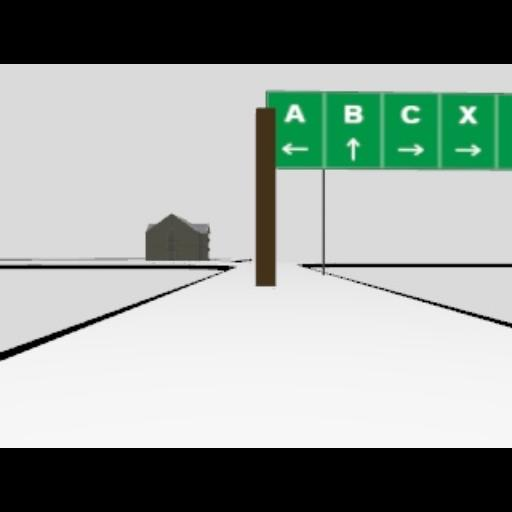A: (283, 102, 305, 124)
B: (342, 104, 364, 124)
C: (400, 104, 420, 124)
Left: (280, 142, 308, 156)
Right: (396, 142, 424, 156), (454, 143, 480, 157)
Straight: (346, 136, 360, 160)
X: (458, 104, 476, 124)
